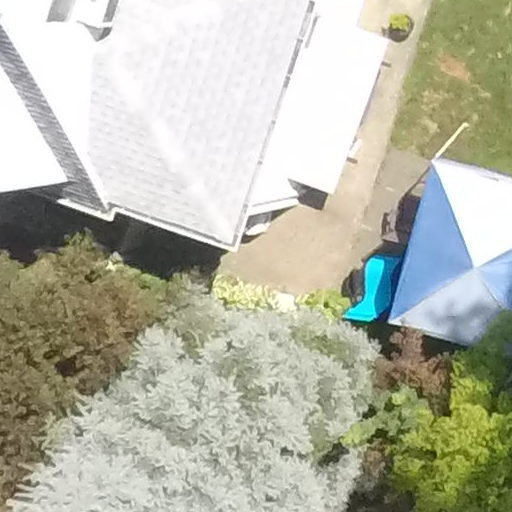container: (377, 10, 419, 44)
pot: (381, 10, 427, 49)
